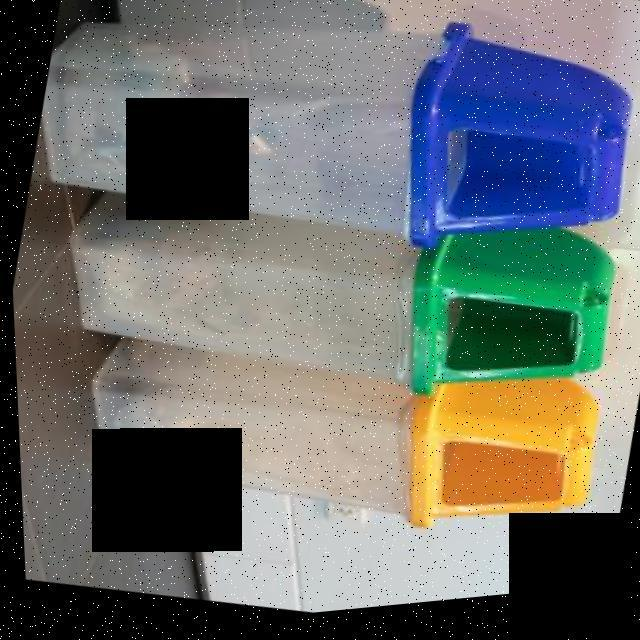bin: (29, 123, 640, 476), (17, 0, 640, 330), (52, 282, 624, 605)
